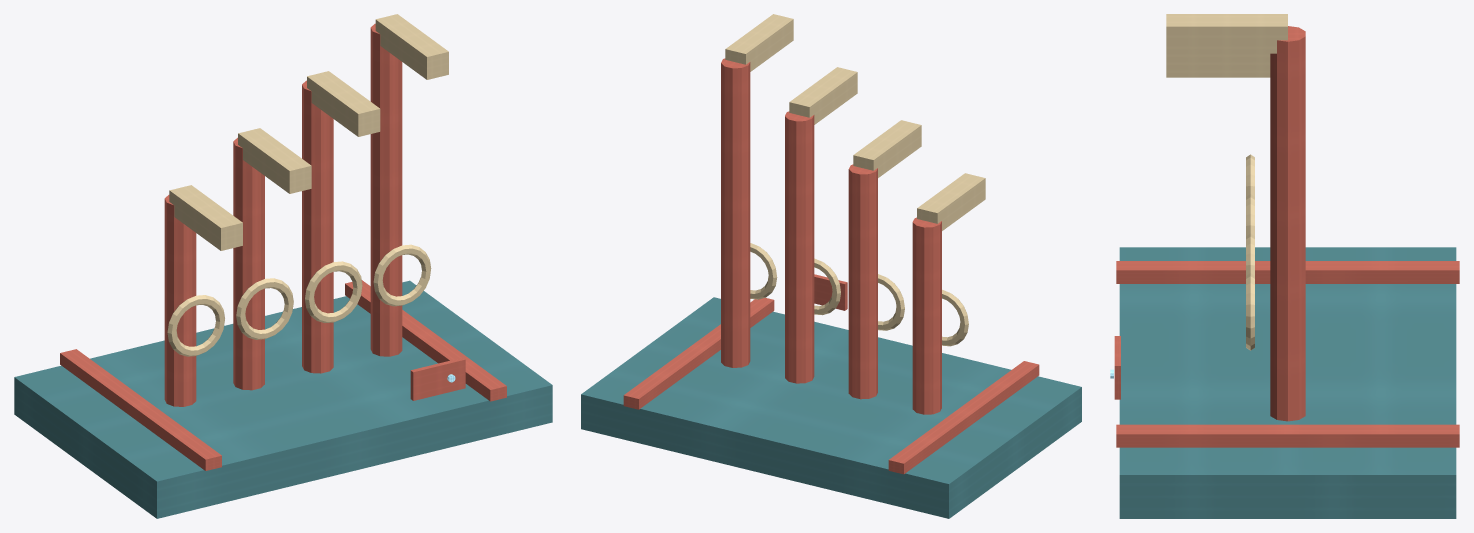
File: atlas100-s074-a01.lod1.glb
The picture shows the model from 3 angles, left to right: view 1: azimuth 30°, elevation 25°; view 2: azimuth 150°, elevation 25°; view 3: azimuth 270°, elevation 25°; orthographic projection. The views are drawn at different scales.
Visible parts, largest first — view 1: atlas100-s074-a01:part-000, atlas100-s074-a01:part-012, atlas100-s074-a01:part-009, atlas100-s074-a01:part-006, atlas100-s074-a01:part-003, atlas100-s074-a01:part-001, atlas100-s074-a01:part-002, atlas100-s074-a01:part-011, atlas100-s074-a01:part-008, atlas100-s074-a01:part-014, atlas100-s074-a01:part-005, atlas100-s074-a01:part-015 (+4 smaller); view 2: atlas100-s074-a01:part-000, atlas100-s074-a01:part-012, atlas100-s074-a01:part-009, atlas100-s074-a01:part-006, atlas100-s074-a01:part-003, atlas100-s074-a01:part-001, atlas100-s074-a01:part-002, atlas100-s074-a01:part-005, atlas100-s074-a01:part-008, atlas100-s074-a01:part-011, atlas100-s074-a01:part-014, atlas100-s074-a01:part-015 (+4 smaller); view 3: atlas100-s074-a01:part-000, atlas100-s074-a01:part-012, atlas100-s074-a01:part-002, atlas100-s074-a01:part-001, atlas100-s074-a01:part-014, atlas100-s074-a01:part-005, atlas100-s074-a01:part-008, atlas100-s074-a01:part-011, atlas100-s074-a01:part-013, atlas100-s074-a01:part-015.
Part boxes in pixels (bbox=[...]): atlas100-s074-a01:part-000: bbox=[14, 280, 552, 518]; atlas100-s074-a01:part-012: bbox=[370, 23, 402, 356]; atlas100-s074-a01:part-009: bbox=[302, 80, 333, 373]; atlas100-s074-a01:part-006: bbox=[233, 137, 264, 390]; atlas100-s074-a01:part-003: bbox=[164, 195, 196, 406]; atlas100-s074-a01:part-001: bbox=[60, 349, 221, 470]; atlas100-s074-a01:part-002: bbox=[345, 280, 506, 401]; atlas100-s074-a01:part-011: bbox=[307, 71, 380, 136]; atlas100-s074-a01:part-008: bbox=[238, 128, 311, 193]; atlas100-s074-a01:part-014: bbox=[375, 14, 448, 79]; atlas100-s074-a01:part-005: bbox=[169, 185, 242, 250]; atlas100-s074-a01:part-015: bbox=[410, 357, 465, 400]; atlas100-s074-a01:part-000: bbox=[581, 297, 1081, 518]; atlas100-s074-a01:part-012: bbox=[721, 58, 750, 367]; atlas100-s074-a01:part-009: bbox=[785, 111, 814, 383]; atlas100-s074-a01:part-006: bbox=[848, 164, 877, 399]; atlas100-s074-a01:part-003: bbox=[912, 217, 941, 414]; atlas100-s074-a01:part-001: bbox=[888, 361, 1039, 474]; atlas100-s074-a01:part-002: bbox=[623, 297, 774, 409]; atlas100-s074-a01:part-005: bbox=[917, 173, 985, 230]; atlas100-s074-a01:part-008: bbox=[853, 120, 921, 177]; atlas100-s074-a01:part-011: bbox=[789, 67, 857, 124]; atlas100-s074-a01:part-014: bbox=[725, 14, 793, 71]; atlas100-s074-a01:part-015: bbox=[814, 274, 847, 310]; atlas100-s074-a01:part-000: bbox=[1119, 247, 1456, 518]; atlas100-s074-a01:part-012: bbox=[1270, 26, 1305, 421]; atlas100-s074-a01:part-002: bbox=[1116, 424, 1459, 447]; atlas100-s074-a01:part-001: bbox=[1116, 261, 1459, 283]; atlas100-s074-a01:part-014: bbox=[1166, 14, 1287, 53]; atlas100-s074-a01:part-005: bbox=[1166, 69, 1270, 77]; atlas100-s074-a01:part-008: bbox=[1166, 61, 1270, 69]; atlas100-s074-a01:part-011: bbox=[1166, 53, 1270, 61]; atlas100-s074-a01:part-013: bbox=[1246, 273, 1254, 350]; atlas100-s074-a01:part-015: bbox=[1114, 336, 1120, 399].
Bounding box in the file's own units: 2.88 × 2.62 × 1.87.
4 materials, 4 textured.
